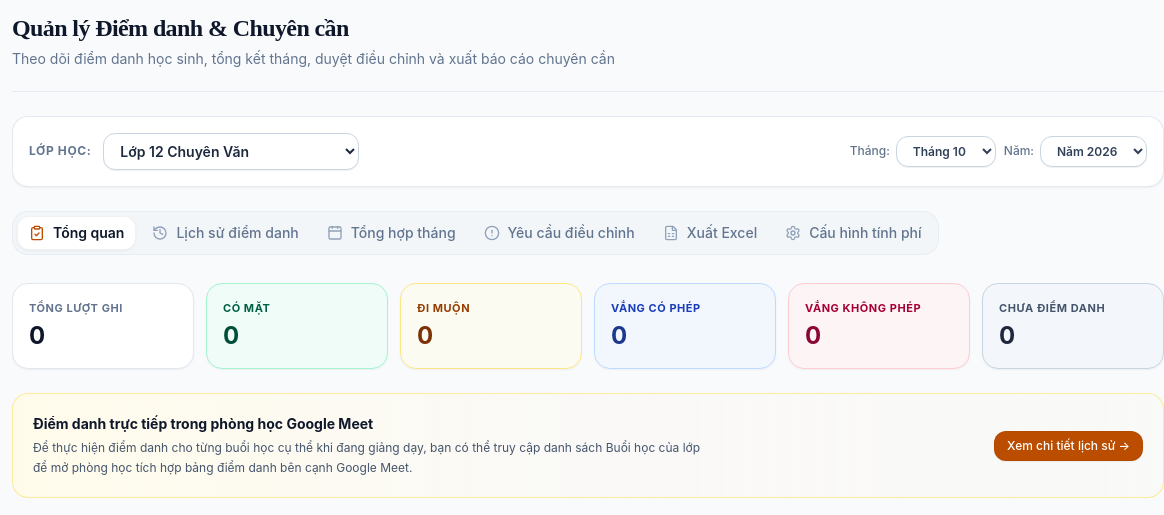
Test: AttendancePage › switches to Correction Requests tab and displays pending requests
This screenshot has width=1164, height=515.
Click the button "Yêu cầu điều chỉnh": (559, 233) [472,216,647,250]
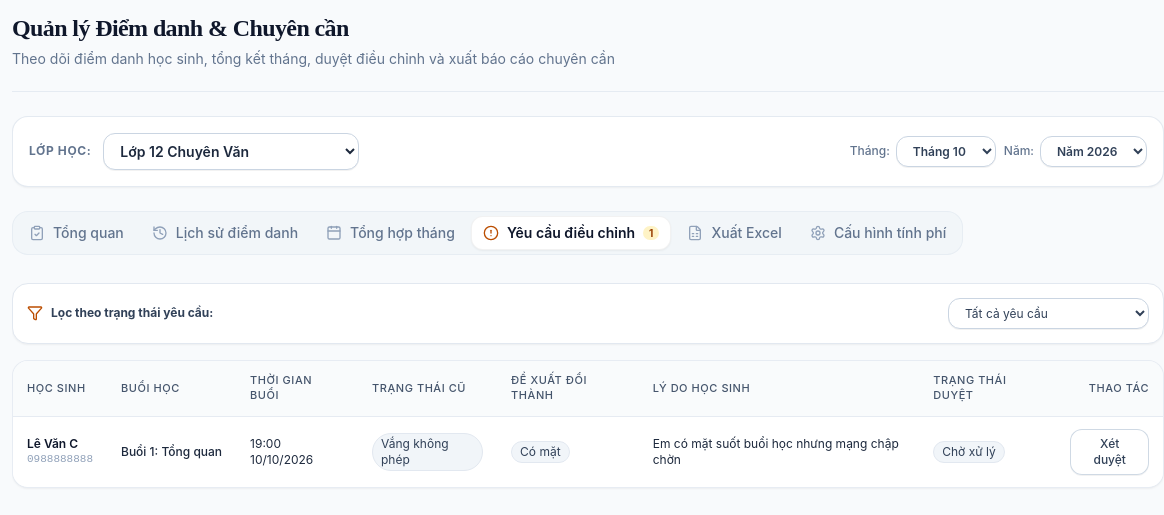
Now the text "Em có mặt suốt buổi học nhưng mạng chập chờn" is shown, box [653,436,905,468]
Now the button "Xét duyệt" is shown, box [1070,429,1149,475]
